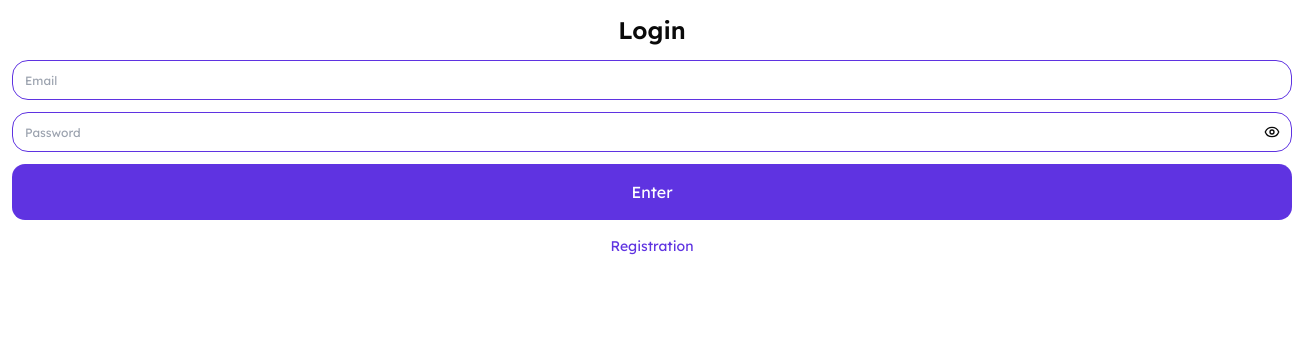
Test: LoginForm › Form Validation › should show email validation error
Click the button "Enter": (652, 192) [12,164,1292,220]
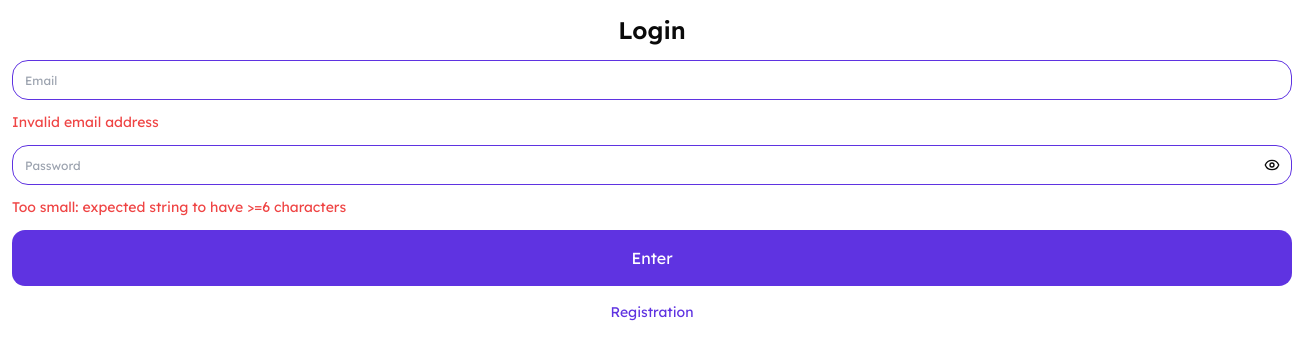
Check: the text "Invalid email address" is shown, box [12,113,159,131]
